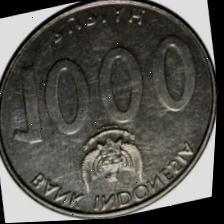coin_1000_e2010: (0, 0, 224, 220)
